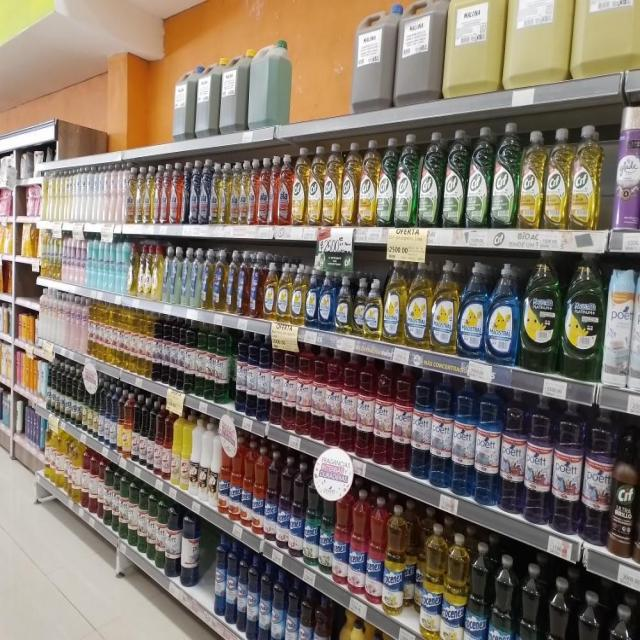ala_conc_amarillo: (230, 160, 240, 224), (220, 162, 230, 224), (125, 166, 135, 224), (210, 160, 219, 224), (143, 165, 152, 224), (240, 160, 248, 225), (135, 165, 143, 224)
ala_conc_azul: (189, 158, 199, 225), (200, 159, 210, 224), (182, 160, 189, 225)
ala_conc_rojo: (277, 153, 291, 225), (258, 157, 269, 225), (170, 162, 181, 224), (248, 159, 258, 225), (269, 156, 278, 226), (160, 164, 170, 224), (154, 165, 160, 224)
cif_conc_bot_amarilla: (571, 123, 601, 231), (544, 127, 570, 230), (519, 129, 544, 229), (359, 138, 377, 227), (341, 141, 359, 227), (323, 142, 341, 227), (292, 147, 307, 226), (308, 144, 322, 226)
cif_conc_botella_verde: (492, 121, 518, 229), (467, 125, 490, 228), (443, 128, 466, 228), (419, 130, 442, 228), (395, 133, 418, 227), (377, 137, 395, 227)
magistral_con_amarillo: (431, 259, 457, 354), (406, 259, 430, 349), (383, 259, 405, 344), (364, 278, 382, 340), (335, 275, 352, 334), (290, 263, 304, 325), (262, 259, 276, 320), (276, 262, 290, 322), (352, 277, 364, 337)
magistral_con_azul: (487, 262, 519, 365), (458, 261, 486, 359), (318, 271, 334, 331), (306, 268, 318, 328)
zorro: (213, 249, 225, 312), (226, 250, 237, 314)
